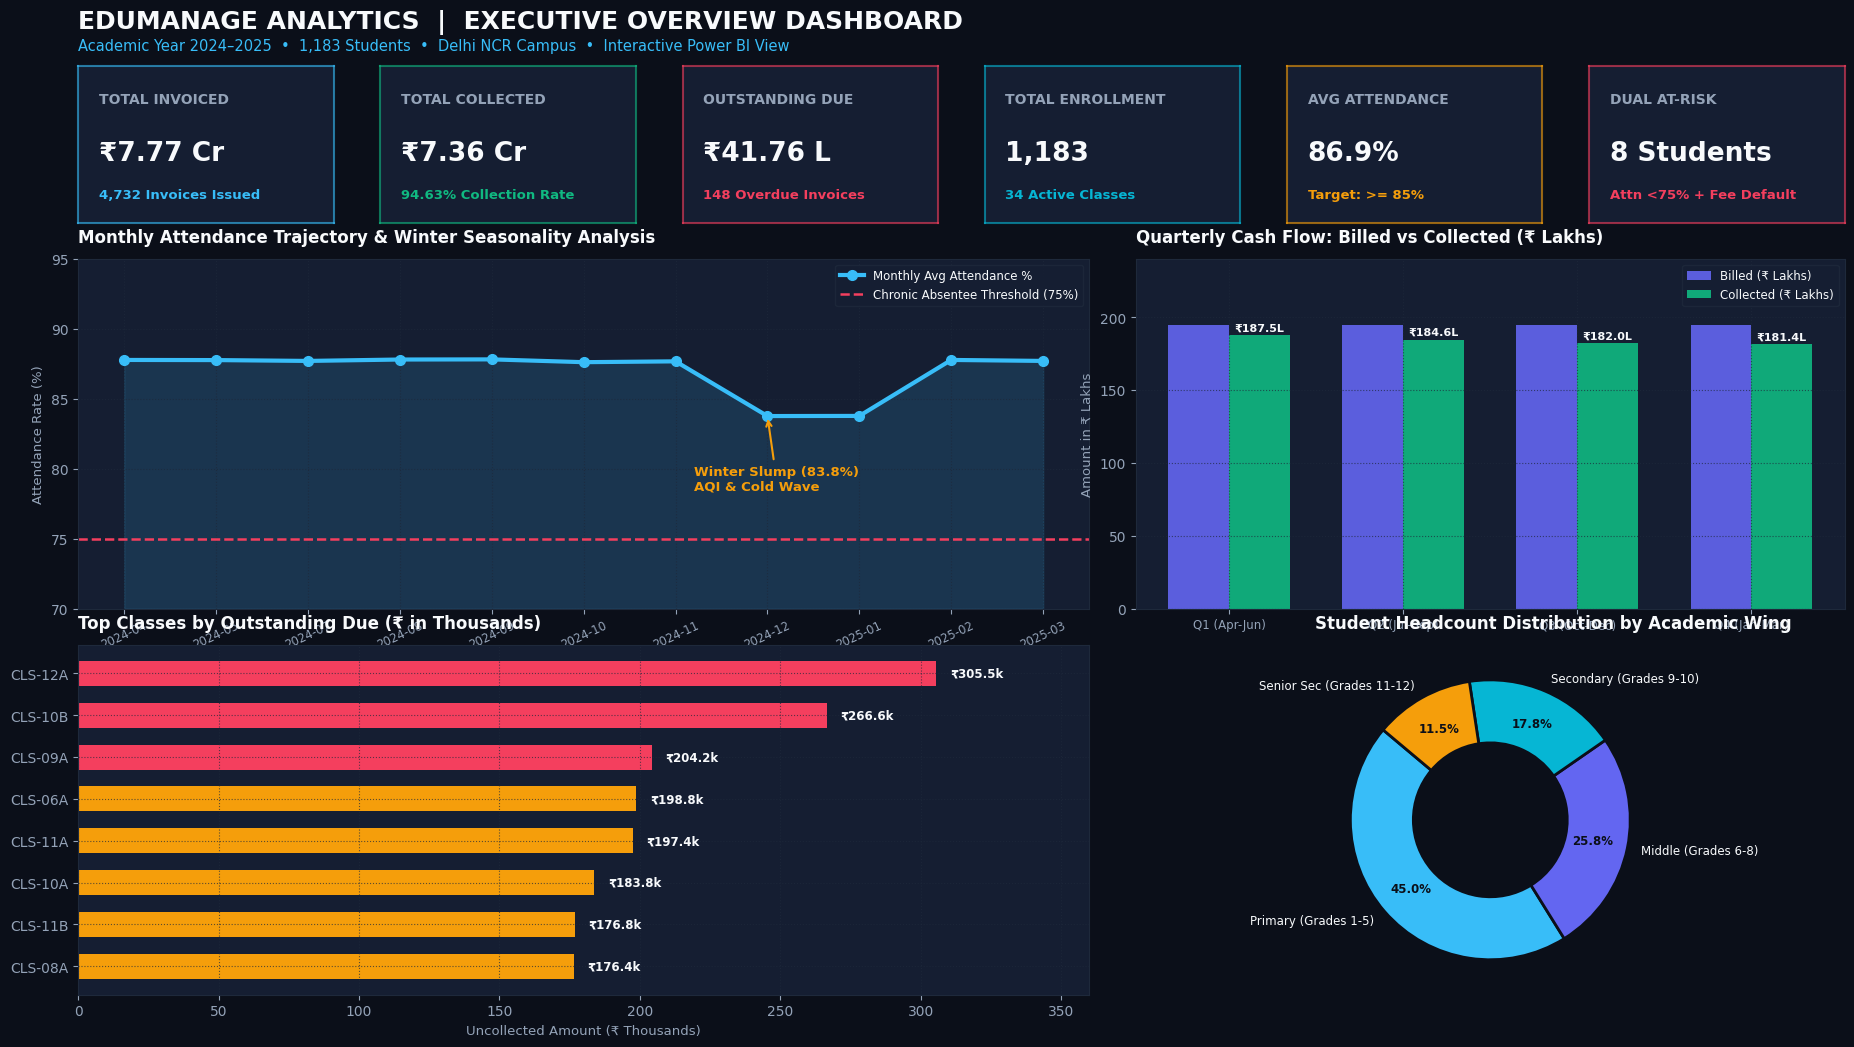

What the dashboard file says about the page in this screenshot:
{"tool":"powerbi","page":{"name":"Page 1","canvas":[1920,1080],"ordinal":0},"visuals":[{"type":"textbox","box":[9.5,0,1895.8,75.8],"z":0},{"type":"cardVisual","title":"Total Invoiced","fields":{"Data":["_KeyMeasures.Total Fee Collected"]},"box":[332.5,80,315.7,262.5],"z":1000},{"type":"slicer","title":"Academic Wing","fields":{"Values":["dim_classes.stream"]},"box":[1481,0,214,75.8],"z":2000},{"type":"cardVisual","title":"Avg Attendance","fields":{"Data":["_KeyMeasures.Average Attendance %"]},"box":[1274.3,80,315.7,262.5],"z":3000},{"type":"slicer","title":"Quarter","fields":{"Values":["fact_fees.quarter"]},"box":[1695,0,214,75.8],"z":4000},{"type":"cardVisual","title":"At-Risk Students","fields":{"Data":["_KeyMeasures.At-Risk Students Count"]},"box":[1589.3,80,315.7,262.5],"z":5000},{"type":"cardVisual","title":"Collection Rate","fields":{"Data":["_KeyMeasures.Fee Collection Rate %"]},"box":[959.3,80,315.7,262.5],"z":7000},{"type":"cardVisual","title":"Total Collected","fields":{"Data":["_KeyMeasures.Total Fee Invoiced"]},"box":[647.5,80,315.7,262.5],"z":8000},{"type":"cardVisual","title":"Total Students","fields":{"Data":["_KeyMeasures.Total Students"]},"box":[17.5,80,315.7,262.5],"z":9000},{"type":"hundredPercentStackedAreaChart","fields":{"Category":["fact_attendance_monthly.academic_month.Variation.Date Hierarchy.Month"],"Y":["_KeyMeasures.Average Attendance %"]},"box":[17.5,342.5,945,372.5],"z":9001},{"type":"clusteredColumnChart","fields":{"Category":["fact_fees.due_date.Variation.Date Hierarchy.Quarter"],"Y":["_KeyMeasures.Total Fee Invoiced","_KeyMeasures.Total Fee Collected"]},"box":[965,362.5,945,354],"z":9003},{"type":"clusteredBarChart","fields":{"Category":["dim_classes.class_id"],"Y":["_KeyMeasures.Total Outstanding Due"]},"box":[18,726,945,354],"z":9004},{"type":"donutChart","fields":{"Category":["dim_classes.stream"],"Y":["_KeyMeasures.Total Students"]},"box":[965,726,945,354],"z":9005}]}

Visuals, with their boxes in screenshot pixels (x1, y1, x2, y2), scaled from the page's 1920x1080 canvas onto the 1854x1047 screenshot:
textbox: rect(9, 0, 1840, 73)
"Total Invoiced" cardVisual: rect(321, 78, 626, 332)
"Academic Wing" slicer: rect(1430, 0, 1637, 73)
"Avg Attendance" cardVisual: rect(1230, 78, 1535, 332)
"Quarter" slicer: rect(1637, 0, 1843, 73)
"At-Risk Students" cardVisual: rect(1535, 78, 1840, 332)
"Collection Rate" cardVisual: rect(926, 78, 1231, 332)
"Total Collected" cardVisual: rect(625, 78, 930, 332)
"Total Students" cardVisual: rect(17, 78, 322, 332)
hundredPercentStackedAreaChart - fact_attendance_monthly.academic_month.Variation.Date Hierarchy.Month x _KeyMeasures.Average Attendance %: rect(17, 332, 929, 693)
clusteredColumnChart - fact_fees.due_date.Variation.Date Hierarchy.Quarter x _KeyMeasures.Total Fee Invoiced: rect(932, 351, 1844, 695)
clusteredBarChart - dim_classes.class_id x _KeyMeasures.Total Outstanding Due: rect(17, 704, 930, 1046)
donutChart - dim_classes.stream x _KeyMeasures.Total Students: rect(932, 704, 1844, 1046)
